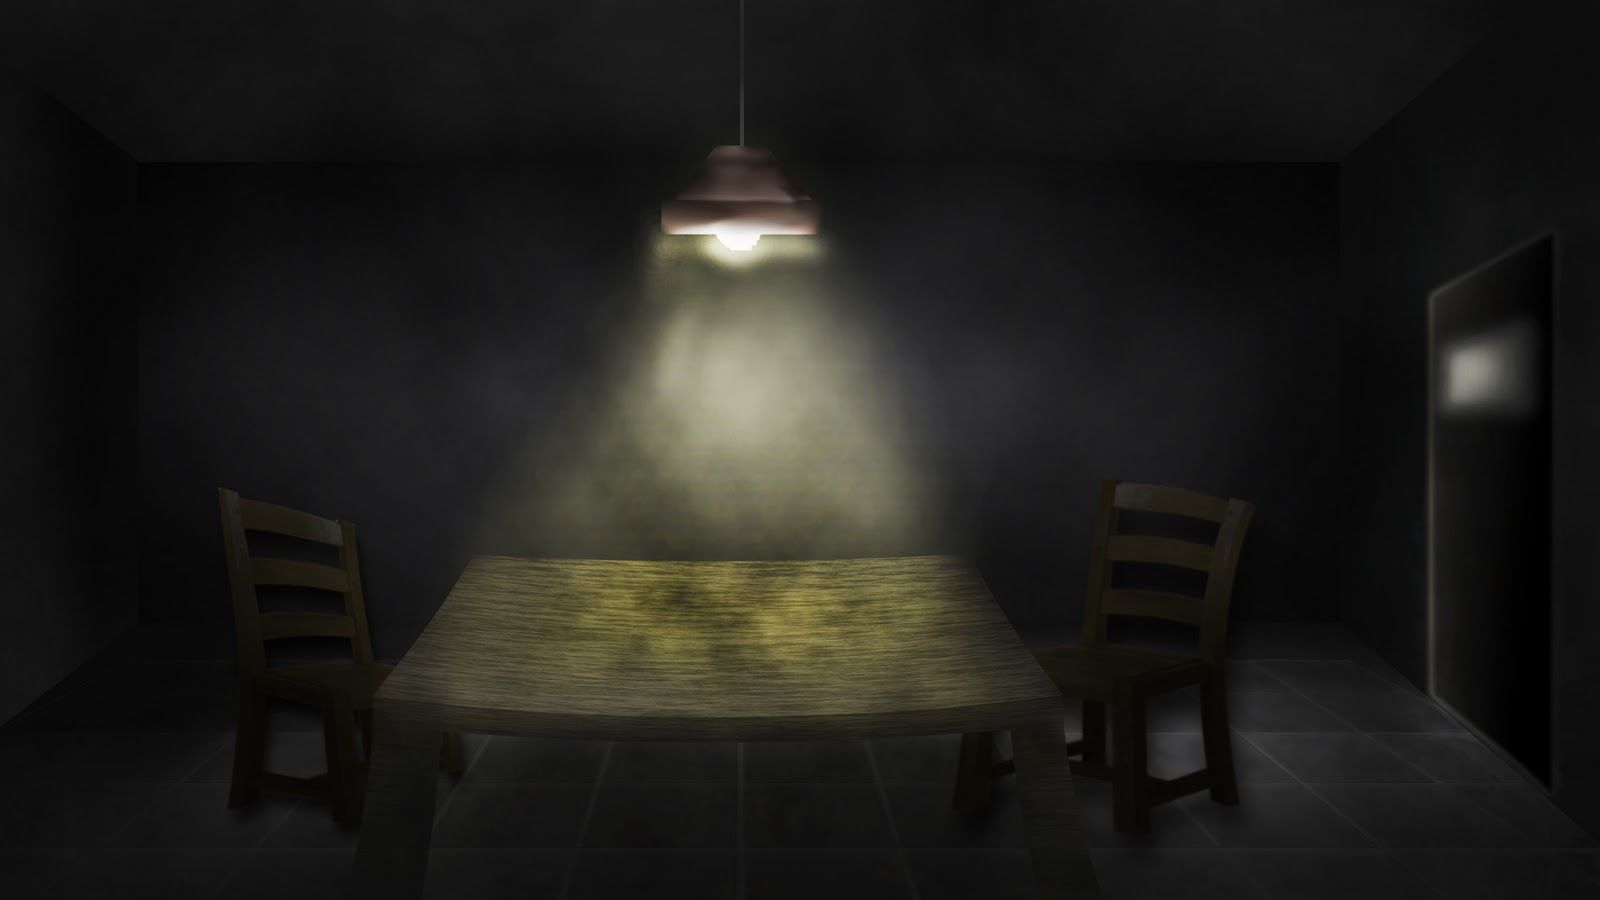bulb: (707, 205, 775, 291)
